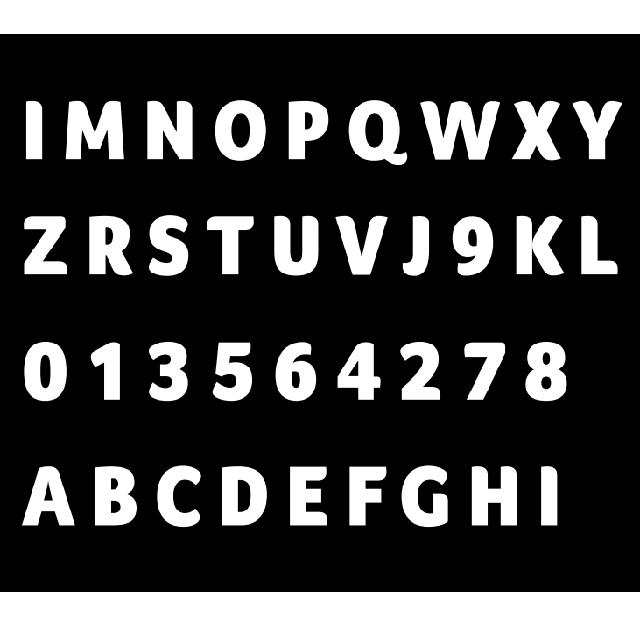0: (17, 337, 72, 407)
1: (92, 339, 125, 403)
2: (398, 337, 442, 403)
3: (147, 339, 190, 408)
4: (337, 338, 379, 402)
5: (209, 338, 252, 408)
6: (273, 336, 317, 407)
7: (463, 338, 506, 403)
8: (527, 337, 571, 406)
9: (453, 213, 496, 279)
A: (21, 460, 74, 532)
B: (87, 459, 143, 531)
C: (155, 462, 204, 533)
D: (219, 462, 266, 532)
E: (285, 463, 329, 533)
F: (350, 458, 396, 528)
G: (402, 462, 452, 534)
H: (466, 458, 514, 528)
I: (14, 89, 54, 167), (531, 463, 568, 531)
J: (401, 207, 434, 279)
K: (518, 216, 566, 282)
L: (574, 213, 622, 280)
M: (62, 99, 122, 163)
N: (144, 100, 192, 166)
O: (210, 95, 270, 167)
P: (286, 100, 326, 165)
Q: (352, 95, 412, 169)
R: (90, 212, 134, 276)
S: (145, 209, 192, 280)
T: (212, 217, 259, 280)
U: (273, 212, 321, 277)
V: (334, 212, 388, 275)
W: (419, 101, 497, 166)
X: (510, 99, 560, 165)
Y: (572, 98, 622, 161)
Z: (22, 214, 70, 276)
